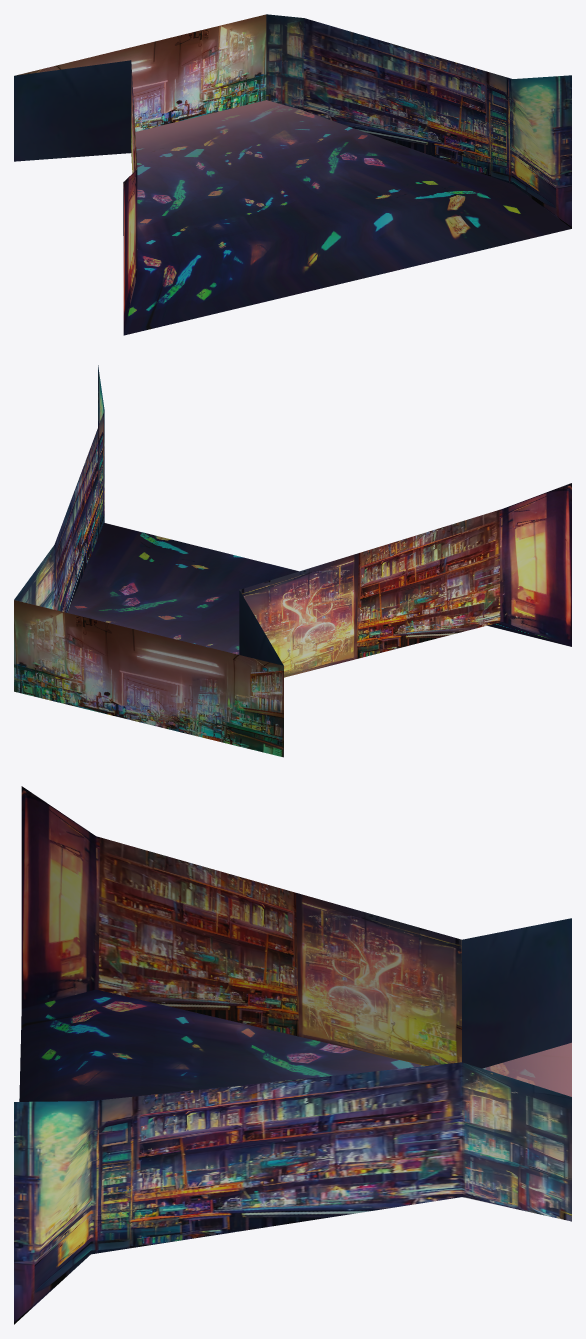
Rendered from stage1test2.fbx.
3 views of the same model, one above another, from view 1: azimuth 30°, elevation 25°; view 2: azimuth 150°, elevation 25°; view 3: azimuth 270°, elevation 25° (orthographic). The views are drawn at different scales.
Visible parts, largest first — view 1: stage1; view 2: stage1; view 3: stage1.
Boxes of the visible parts, left/top/right/bottom form: stage1: left=14, top=14, right=571, bottom=335; stage1: left=14, top=365, right=571, bottom=757; stage1: left=14, top=786, right=571, bottom=1324.
Size of the model in its own units: 177 by 58.33 by 132.
1 material, 1 textured.
